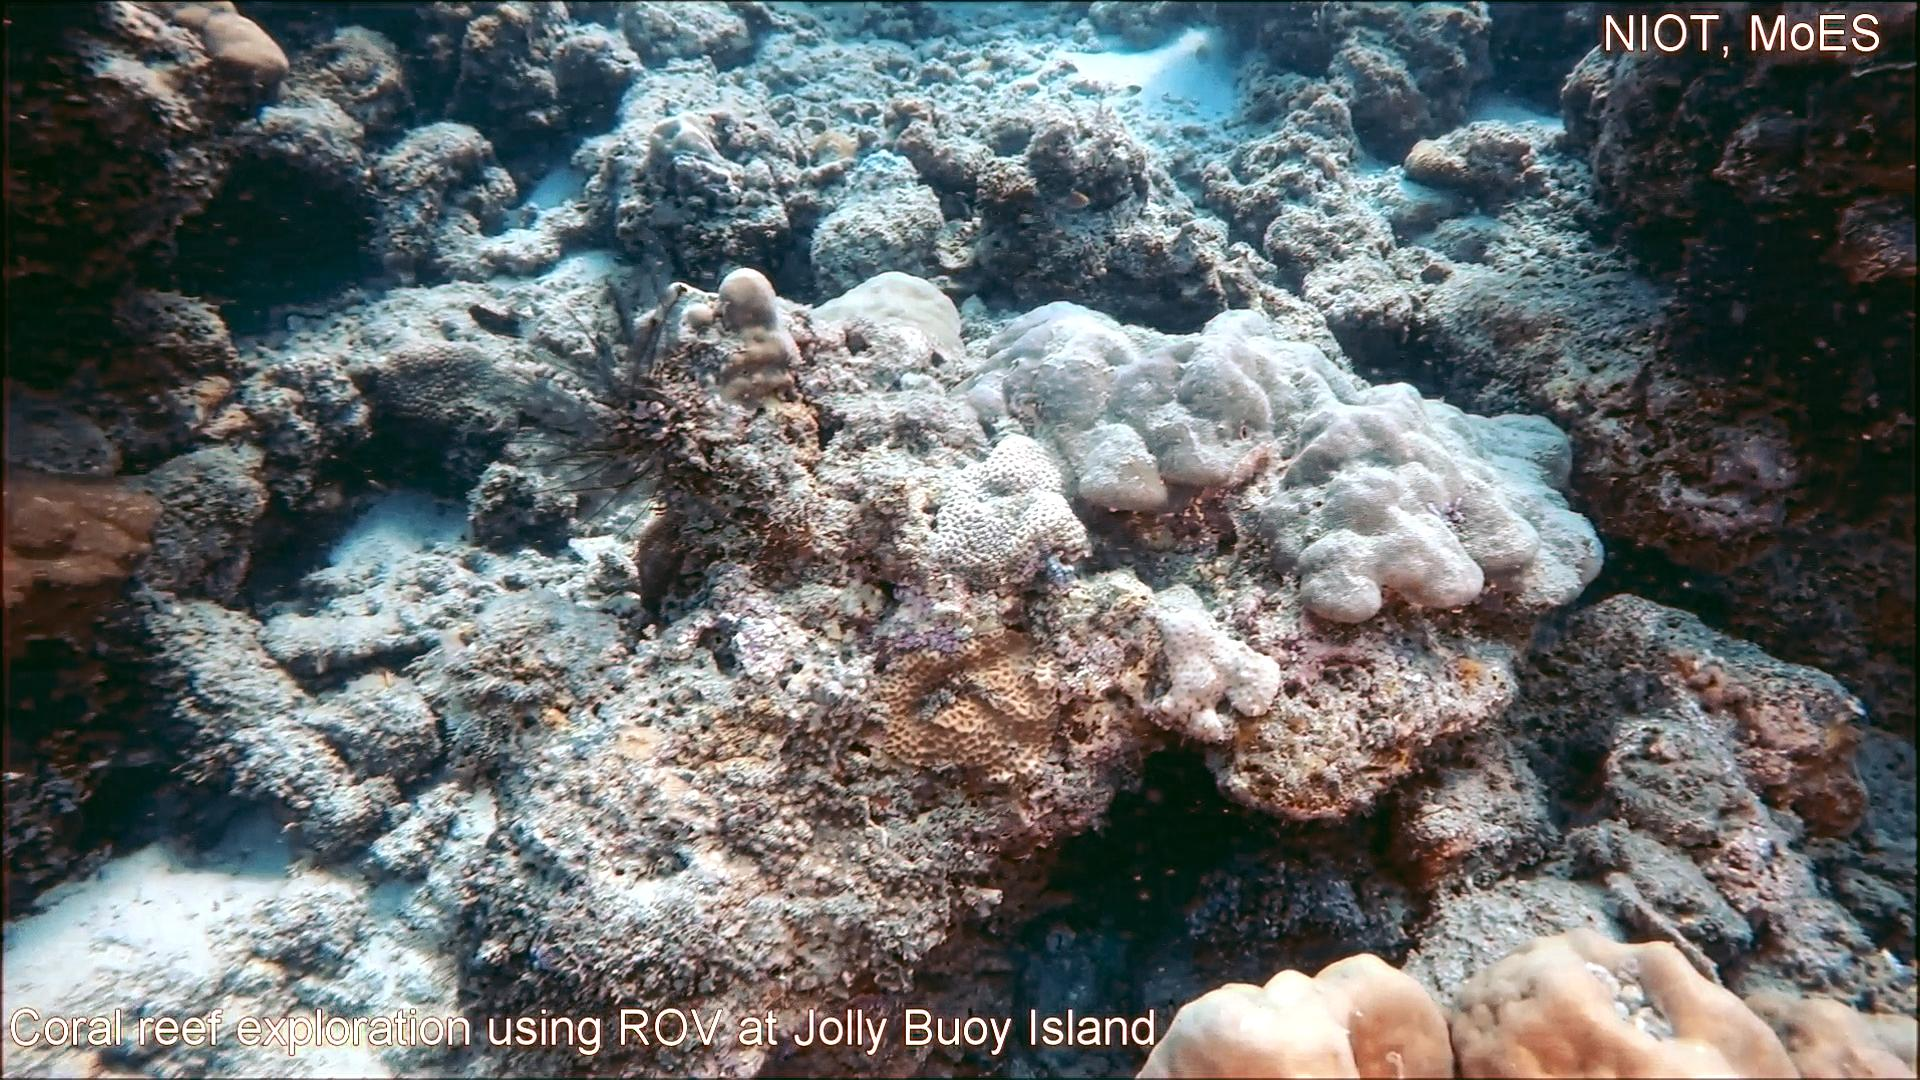Feather star-Crinoid star: (472, 239, 699, 554)
Goniastrea-Goniastrea pectinata: (928, 426, 1096, 596)
Porites-Porites pukoensis: (1175, 306, 1613, 629)
Turbinaria-Turbinaria stellulata: (373, 339, 521, 431)
